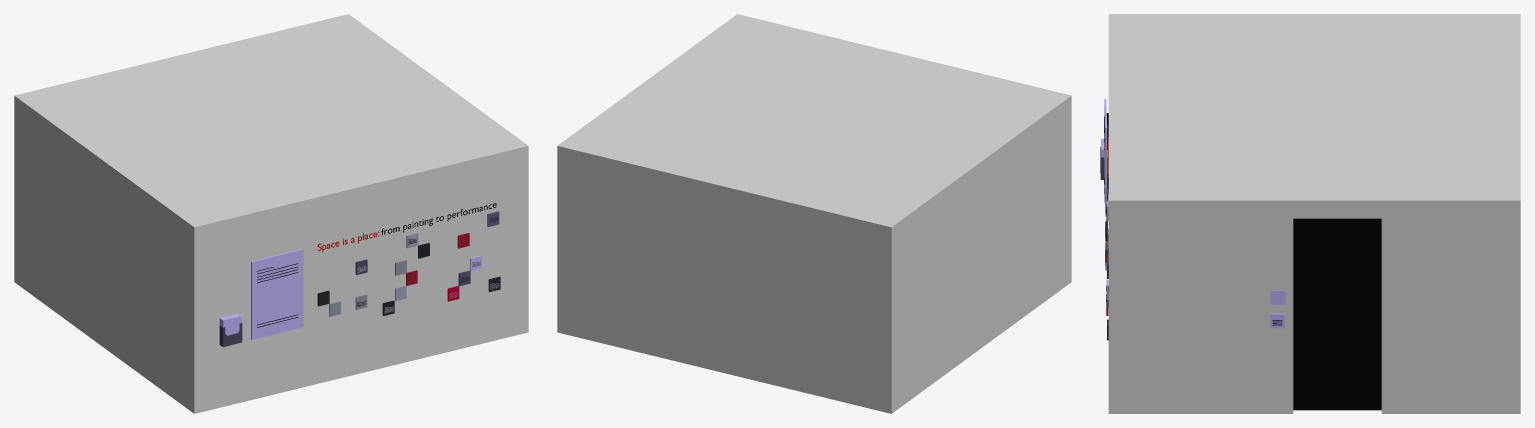
Rendered from spaceisaplace.glb.
3 views of the same model, side by side, from view 1: azimuth 30°, elevation 25°; view 2: azimuth 150°, elevation 25°; view 3: azimuth 270°, elevation 25° (orthographic). The views are drawn at different scales.
Visible parts, largest first — view 1: Cube, Cube.018; view 2: Cube; view 3: Cube, Cube.022.
Part boxes in pixels (x1=…): Cube: x1=14, y1=14, x2=528, y2=413; Cube.018: x1=251, y1=248, x2=303, y2=339; Cube: x1=557, y1=14, x2=1071, y2=413; Cube: x1=1108, y1=14, x2=1520, y2=413; Cube.022: x1=1293, y1=218, x2=1381, y2=410.
Bounding box in the file's own units: 4.52 × 2.4 × 4.28.
